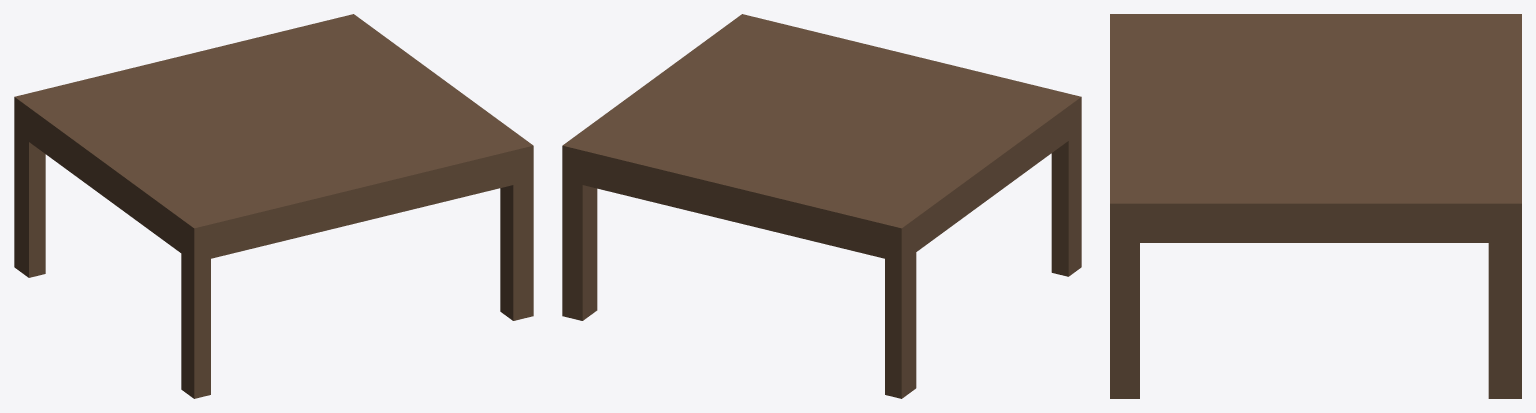
The model's file is Table.fbx.
3 renders of one model, left to right at view 1: azimuth 30°, elevation 25°; view 2: azimuth 150°, elevation 25°; view 3: azimuth 270°, elevation 25°, orthographic. The views are drawn at different scales.
Visible parts, largest first — view 1: Table; view 2: Table; view 3: Table.
Boxes of the visible parts, bbox=[...] form: Table: bbox=[14, 14, 533, 398]; Table: bbox=[562, 14, 1081, 398]; Table: bbox=[1110, 14, 1521, 398].
Bounding box in the file's own units: 1.86 × 0.8955 × 1.71.
Materials: 1 (1 with a texture image).
